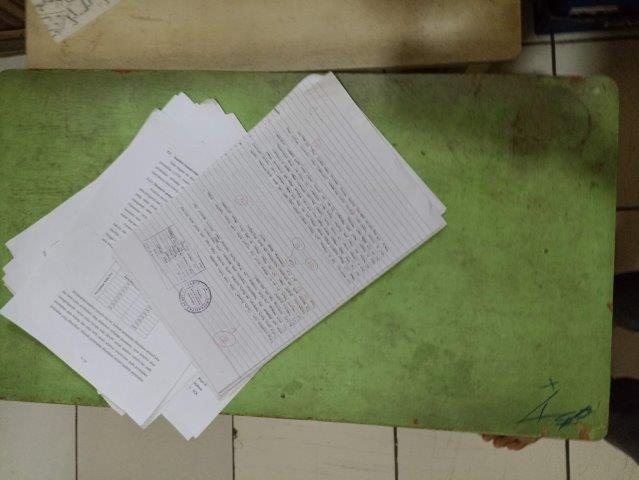kertas: (9, 71, 447, 441)
